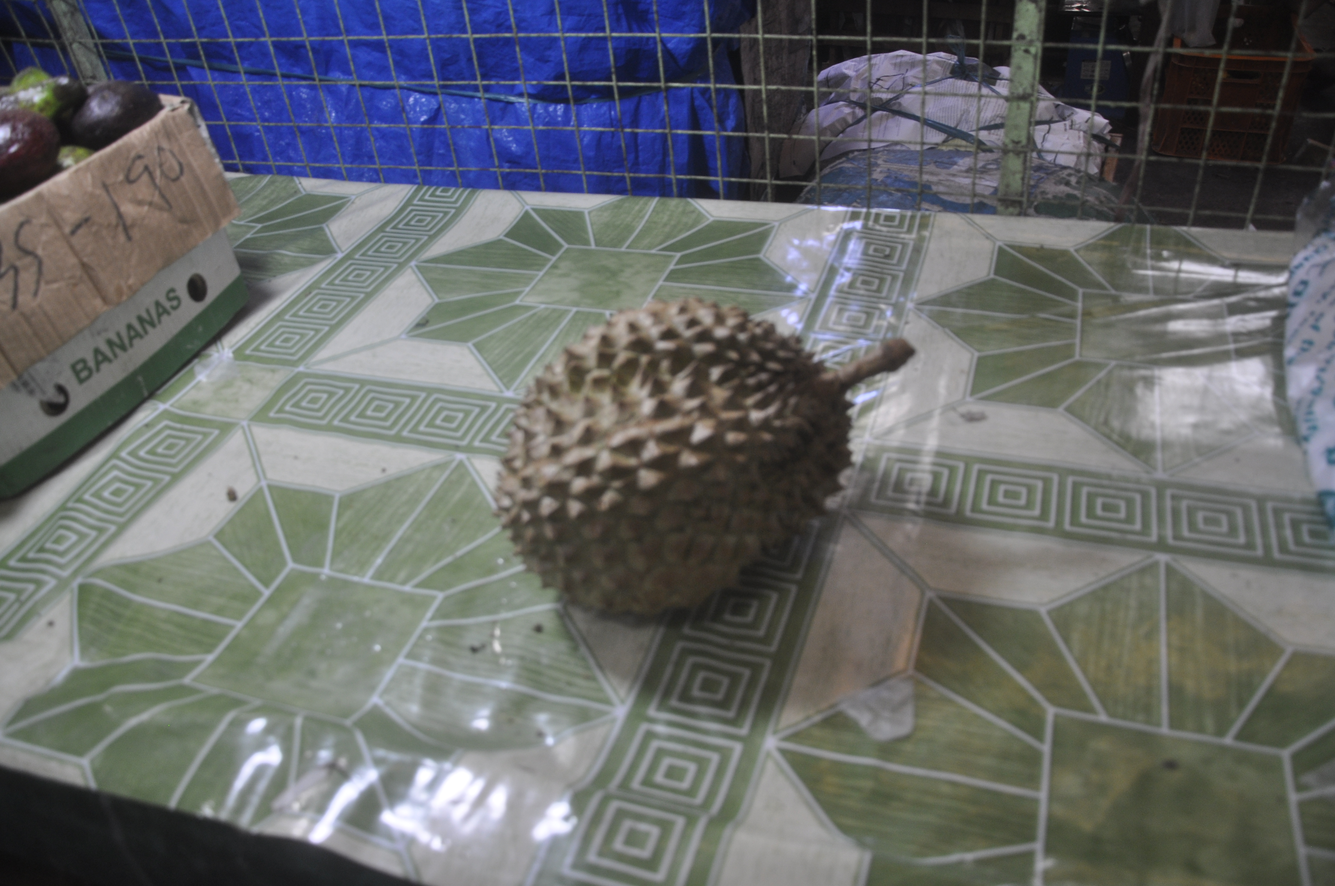mature: (495, 298, 913, 617)
